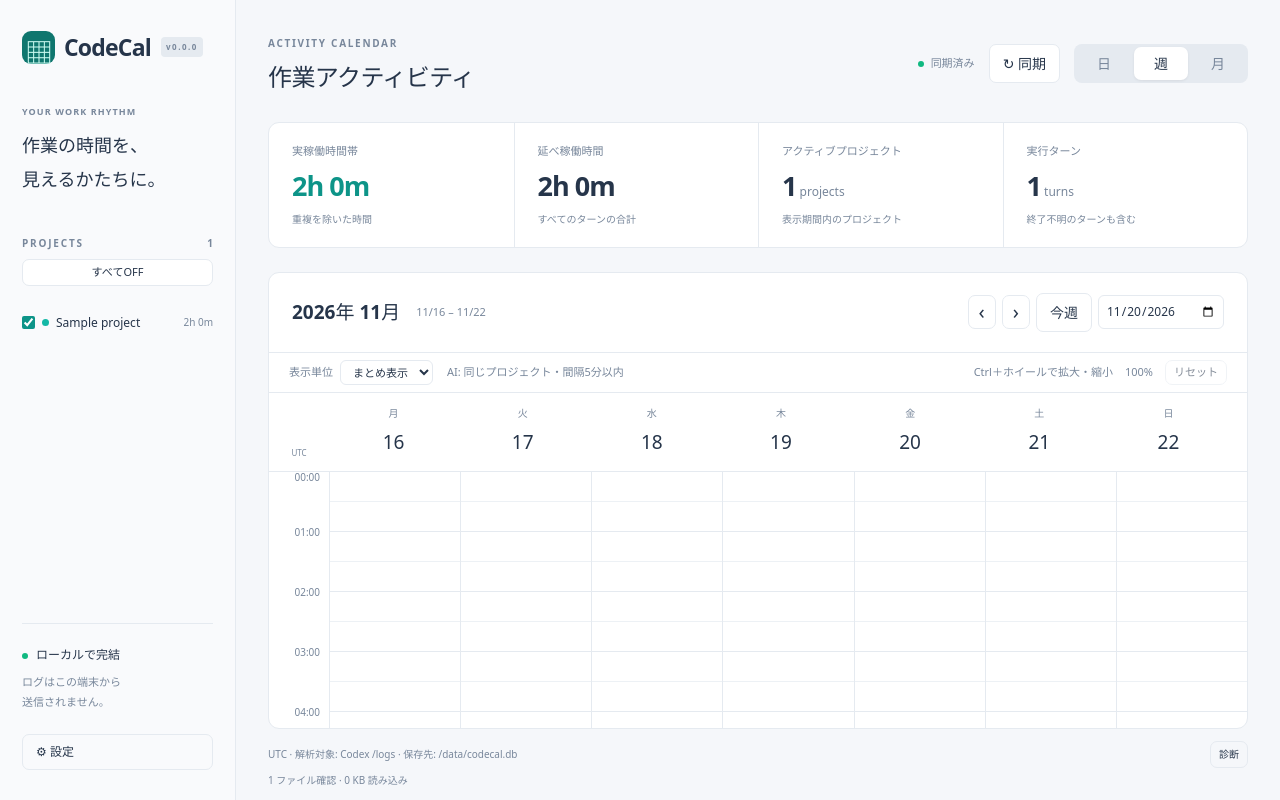
Test case: renders heatmap and navigates from a selected day to week
Click the button "月" at (1218, 63), box x1=1191 y1=46 x2=1245 y2=80
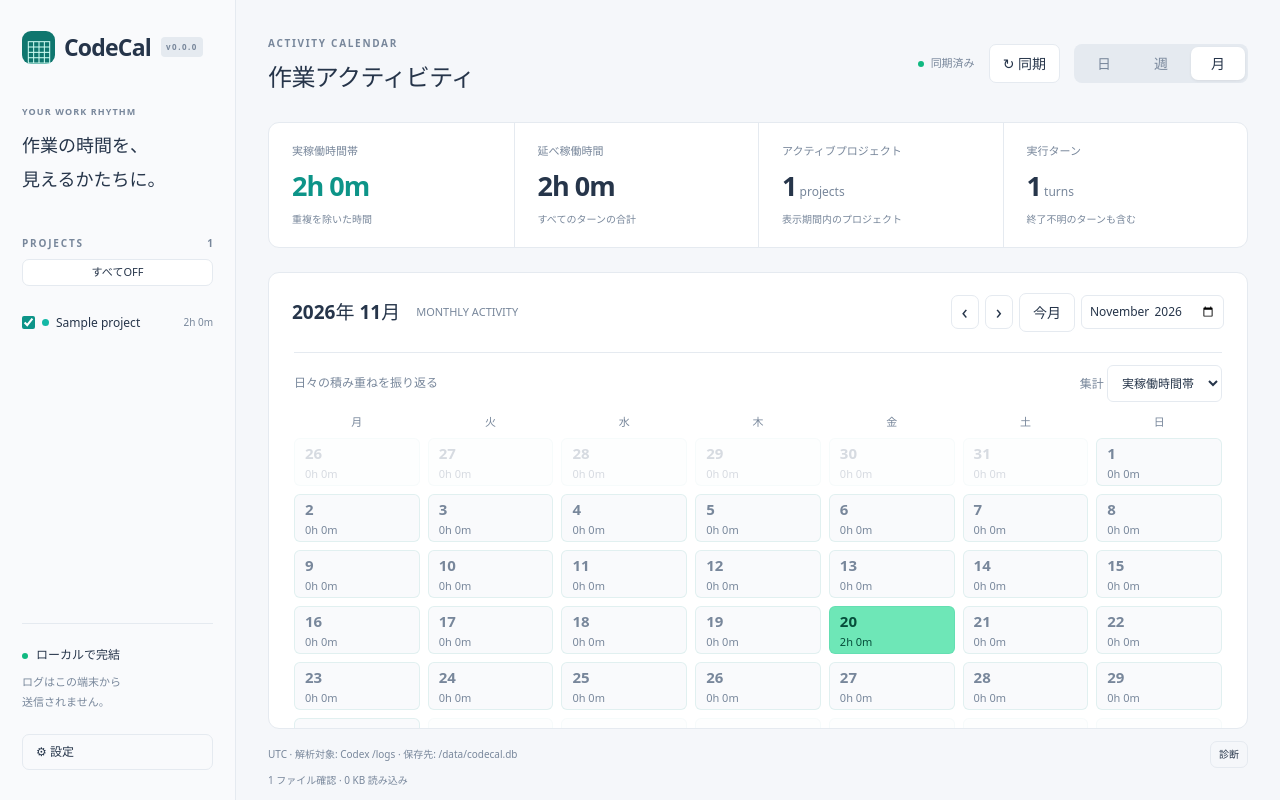
Click the button named "2026-11-20 2h 0m" at (892, 630), box x1=829 y1=606 x2=954 y2=654
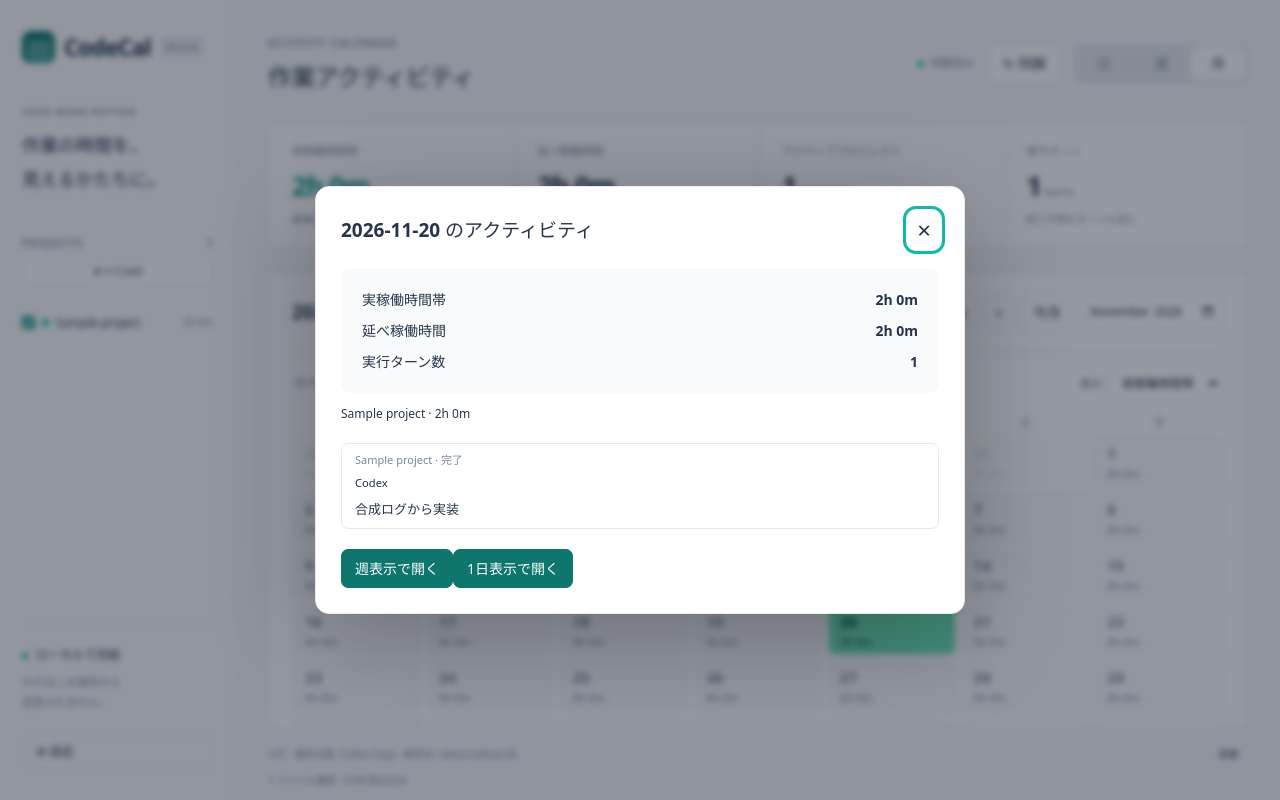
Check: the dialog shows "合成ログから実装", box x1=341 y1=443 x2=939 y2=529
Click the button "週表示で開く" at (397, 568), box x1=341 y1=549 x2=453 y2=588
(page scrolled)
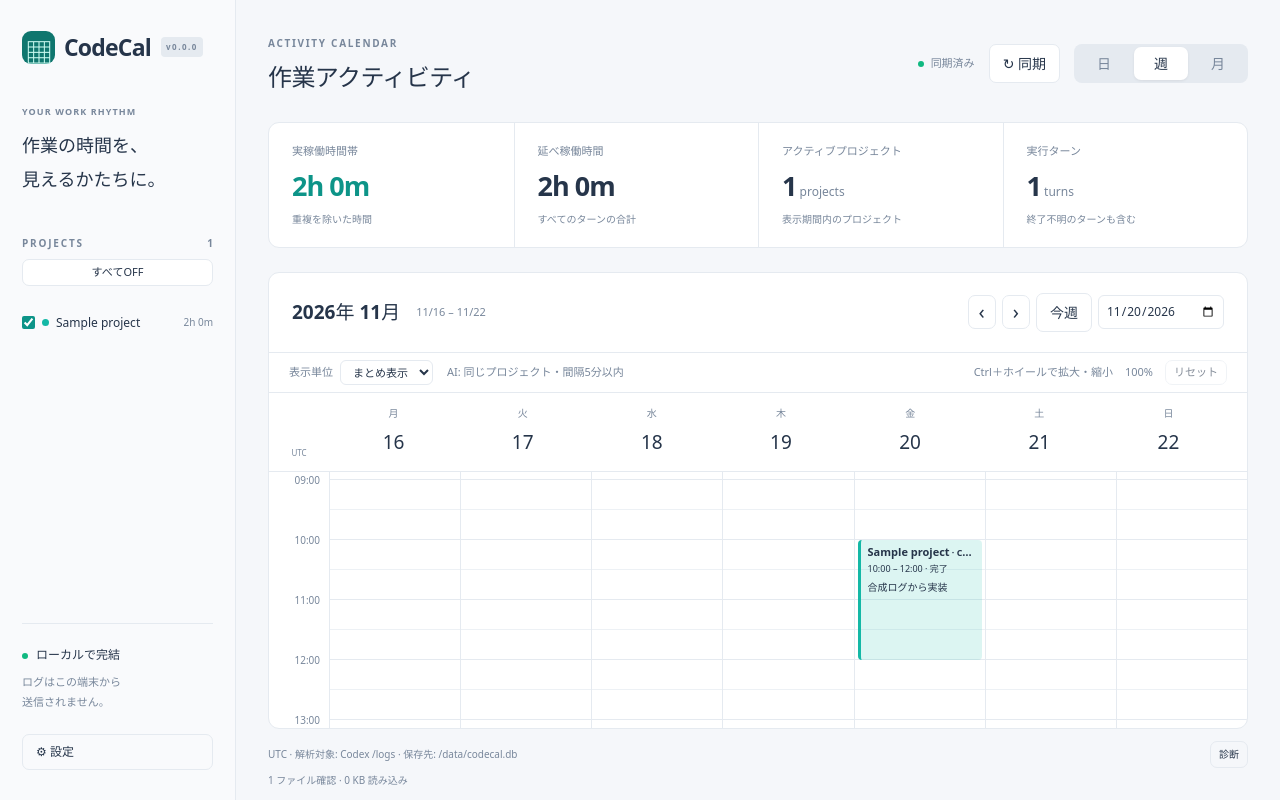
Check: the button "Sample project · Codex 10:00 – 12:00 · 完了 合成ログから実装" is shown, box x1=858 y1=540 x2=982 y2=660
